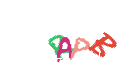A: (29, 0, 109, 80)
B: (47, 0, 127, 80)
P: (43, 0, 123, 80)
R: (16, 0, 96, 80)
